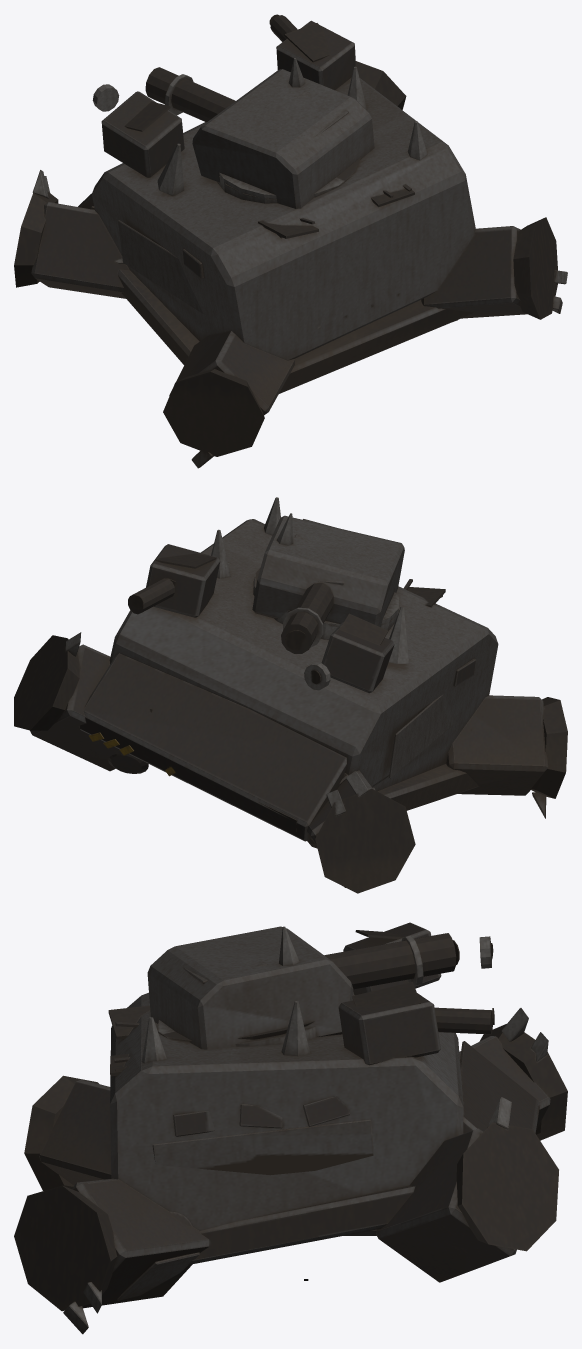
Rendered from chs_colossus_wreck.fbx.
3 renders of one model, top to bottom at view 1: azimuth 30°, elevation 25°; view 2: azimuth 150°, elevation 25°; view 3: azimuth 270°, elevation 25°, orthographic. The views are drawn at different scales.
Visible parts, largest first — view 1: base_bar, torso_bar, legBL_bar, legBR_bar, legFL_bar, legFR_bar; view 2: base_bar, torso_bar, legBL_bar, legFR_bar, legFL_bar; view 3: base_bar, torso_bar, legFR_bar, legBR_bar, legBL_bar, legFL_bar.
Part boxes in pixels (left/top/right/bottom): base_bar: left=78, top=14, right=475, bottom=393; torso_bar: left=145, top=58, right=374, bottom=208; legBL_bar: left=163, top=331, right=294, bottom=468; legBR_bar: left=421, top=217, right=567, bottom=321; legFL_bar: left=14, top=170, right=129, bottom=298; legFR_bar: left=355, top=61, right=406, bottom=109; base_bar: left=79, top=497, right=498, bottom=841; torso_bar: left=252, top=513, right=404, bottom=653; legBL_bar: left=446, top=695, right=567, bottom=818; legFR_bar: left=14, top=632, right=148, bottom=773; legFL_bar: left=307, top=770, right=415, bottom=893; base_bar: left=108, top=922, right=540, bottom=1264; torso_bar: left=147, top=926, right=459, bottom=1049; legFR_bar: left=376, top=1097, right=558, bottom=1282; legBR_bar: left=14, top=1178, right=209, bottom=1334; legBL_bar: left=24, top=1075, right=111, bottom=1190; legFL_bar: left=459, top=1008, right=567, bottom=1140.
Bounding box in the file's own units: 2623 × 1956 × 2546.
2 materials, 2 textured.
